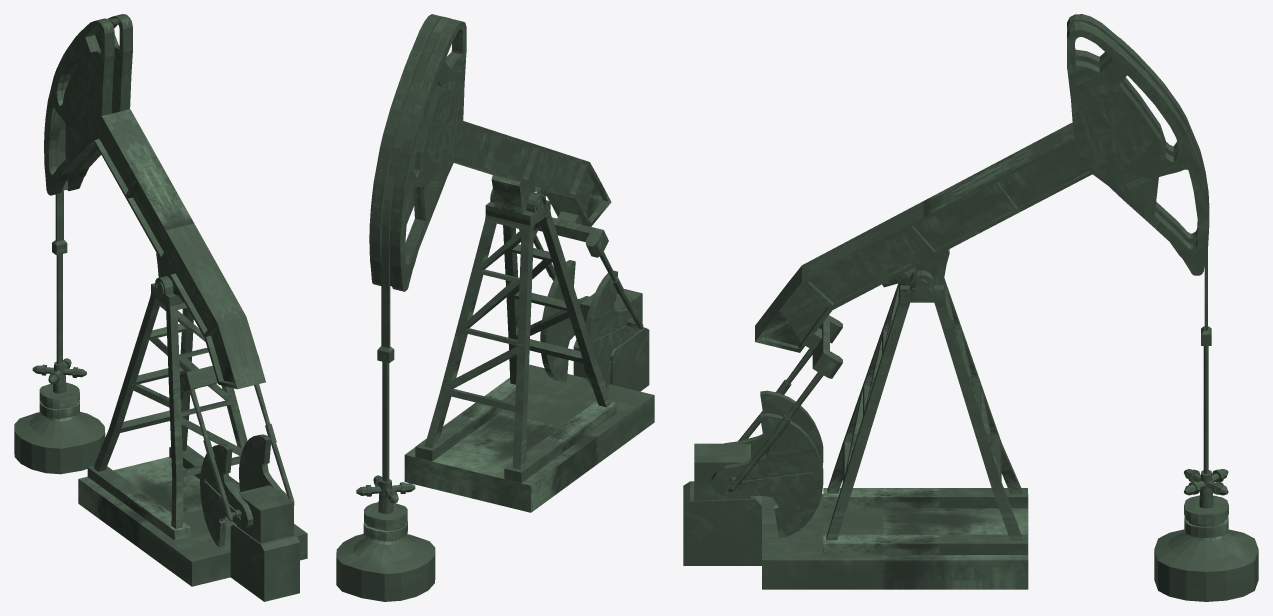
The model's file is pump.obj.
3 renders of one model, left to right at view 1: azimuth 30°, elevation 25°; view 2: azimuth 150°, elevation 25°; view 3: azimuth 270°, elevation 25°, orthographic. The views are drawn at different scales.
Visible parts, largest first — view 1: Oil_Pump; view 2: Oil_Pump; view 3: Oil_Pump.
Part boxes in pixels (box(x1,y1,x2,y2)): Oil_Pump: box(14, 14, 307, 601); Oil_Pump: box(336, 14, 654, 601); Oil_Pump: box(683, 14, 1258, 601).
Size of the model in its own units: 1.29 by 5.05 by 4.73.
